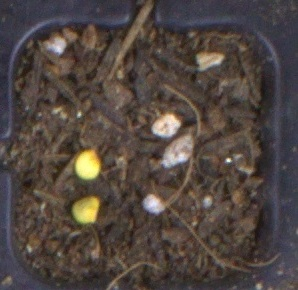chilli seed: (74, 148, 102, 181), (70, 195, 100, 224)
